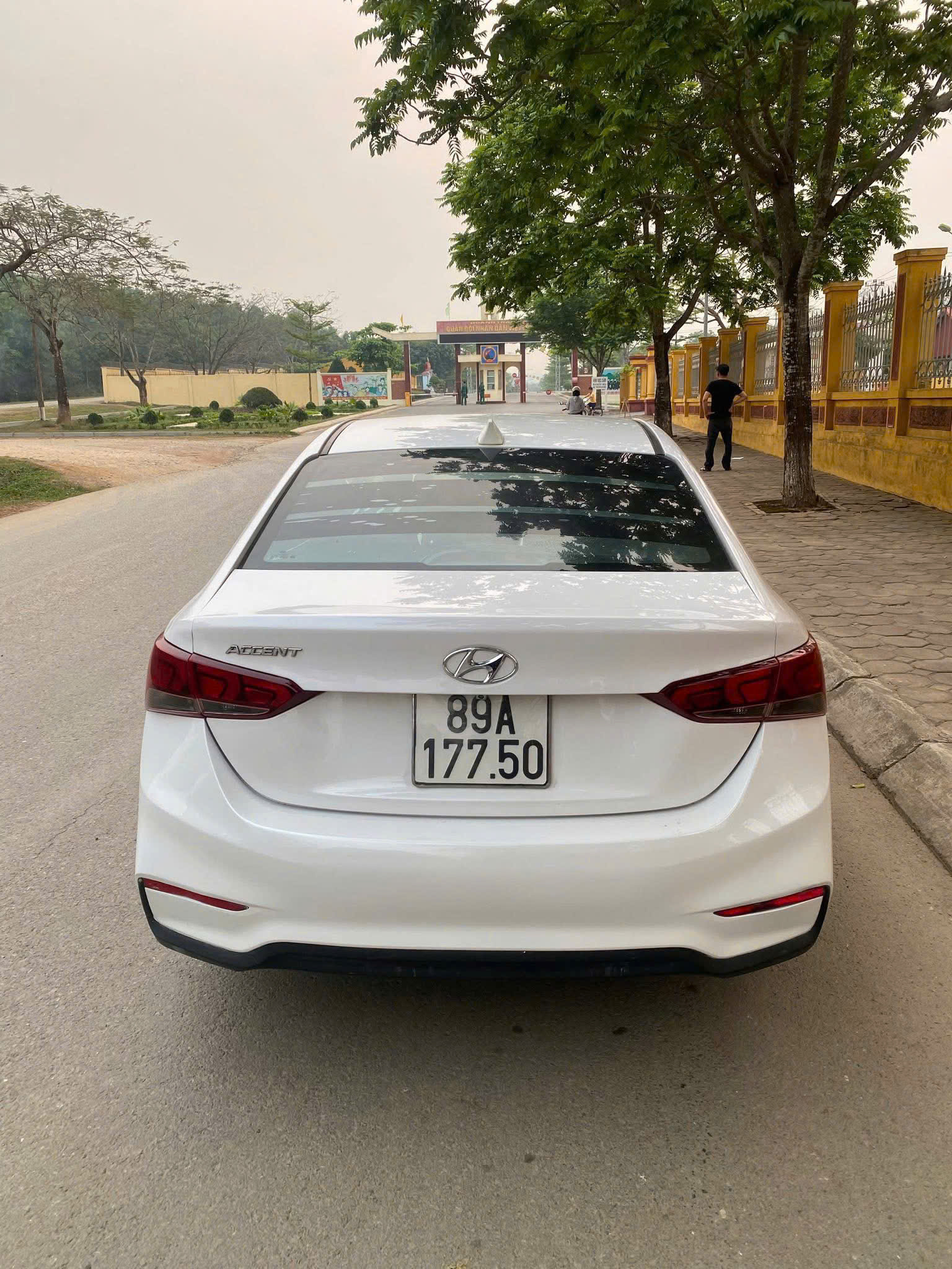Bien-so: (416, 694, 550, 791)
